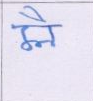o_matra: (40, 15, 58, 48)
